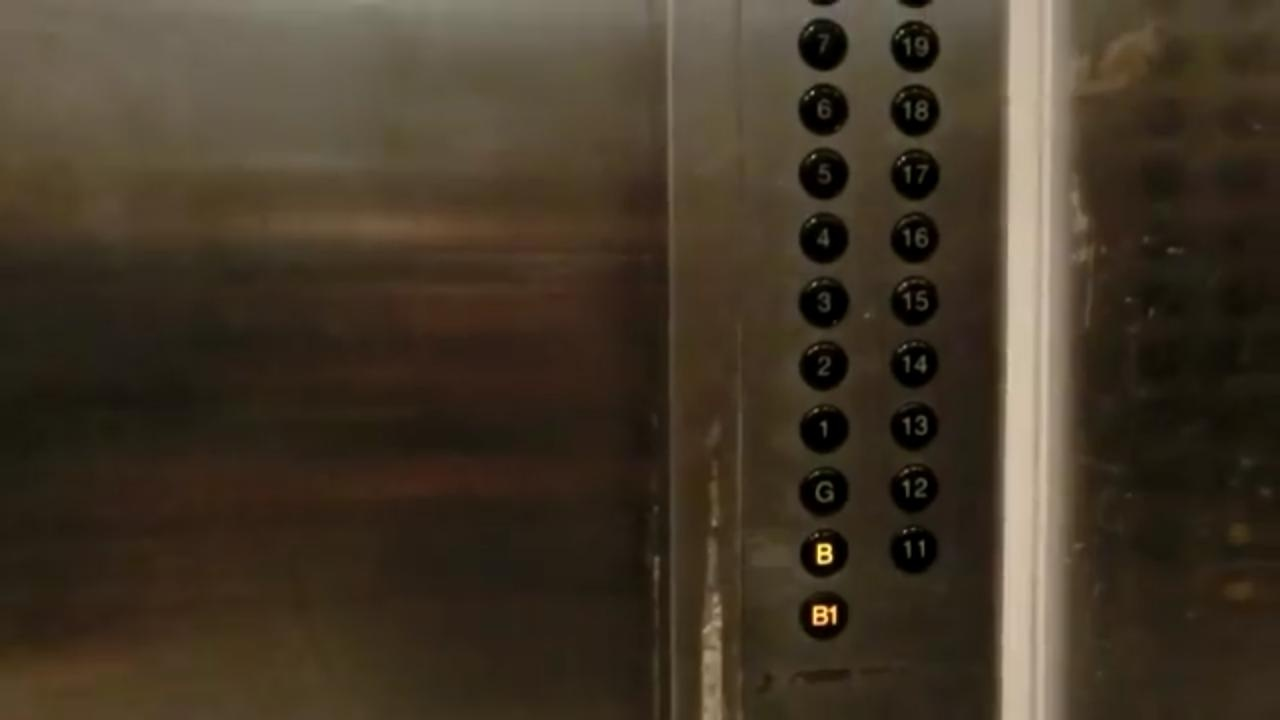1: (798, 403, 850, 453)
11: (889, 524, 938, 575)
12: (888, 462, 939, 513)
13: (888, 399, 939, 452)
14: (890, 339, 939, 389)
15: (890, 275, 939, 327)
16: (890, 211, 939, 265)
17: (890, 148, 940, 201)
18: (889, 83, 940, 137)
19: (889, 19, 940, 74)
2: (797, 339, 849, 391)
3: (797, 275, 849, 329)
4: (797, 210, 850, 266)
5: (796, 145, 850, 201)
6: (797, 81, 850, 137)
7: (796, 17, 850, 72)
B: (799, 528, 849, 578)
B1: (799, 590, 849, 640)
G: (798, 467, 848, 517)
